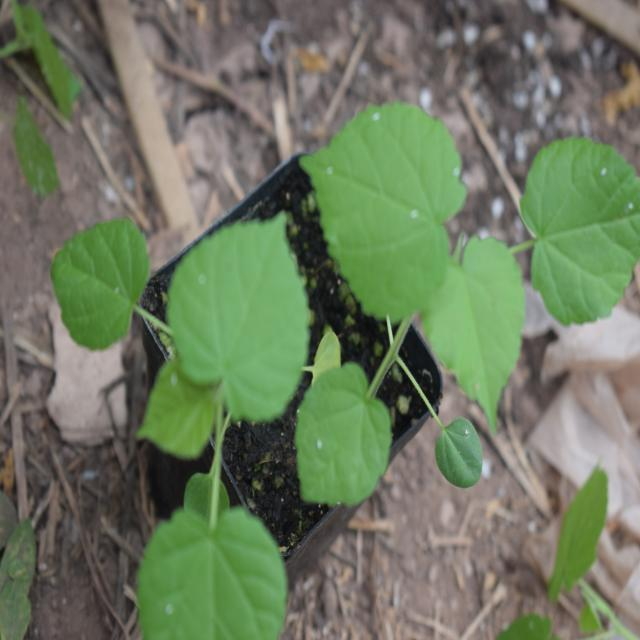abutilon theophrasti: (299, 84, 623, 438)
